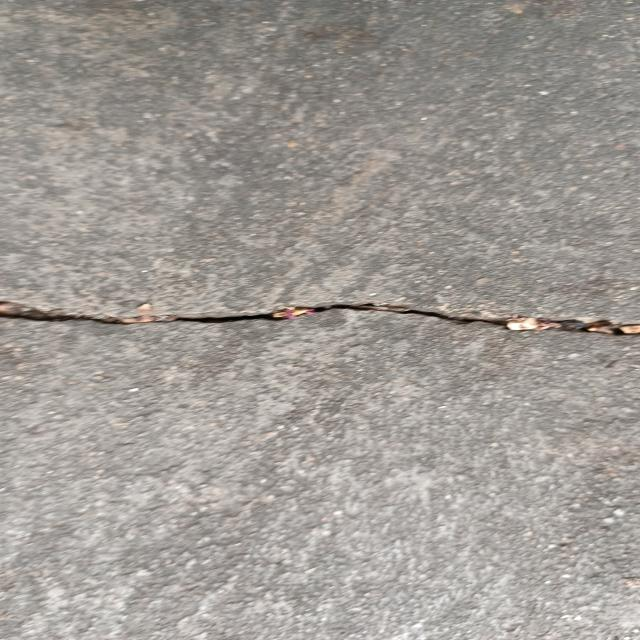horizontal crack: (0, 302, 640, 335)
